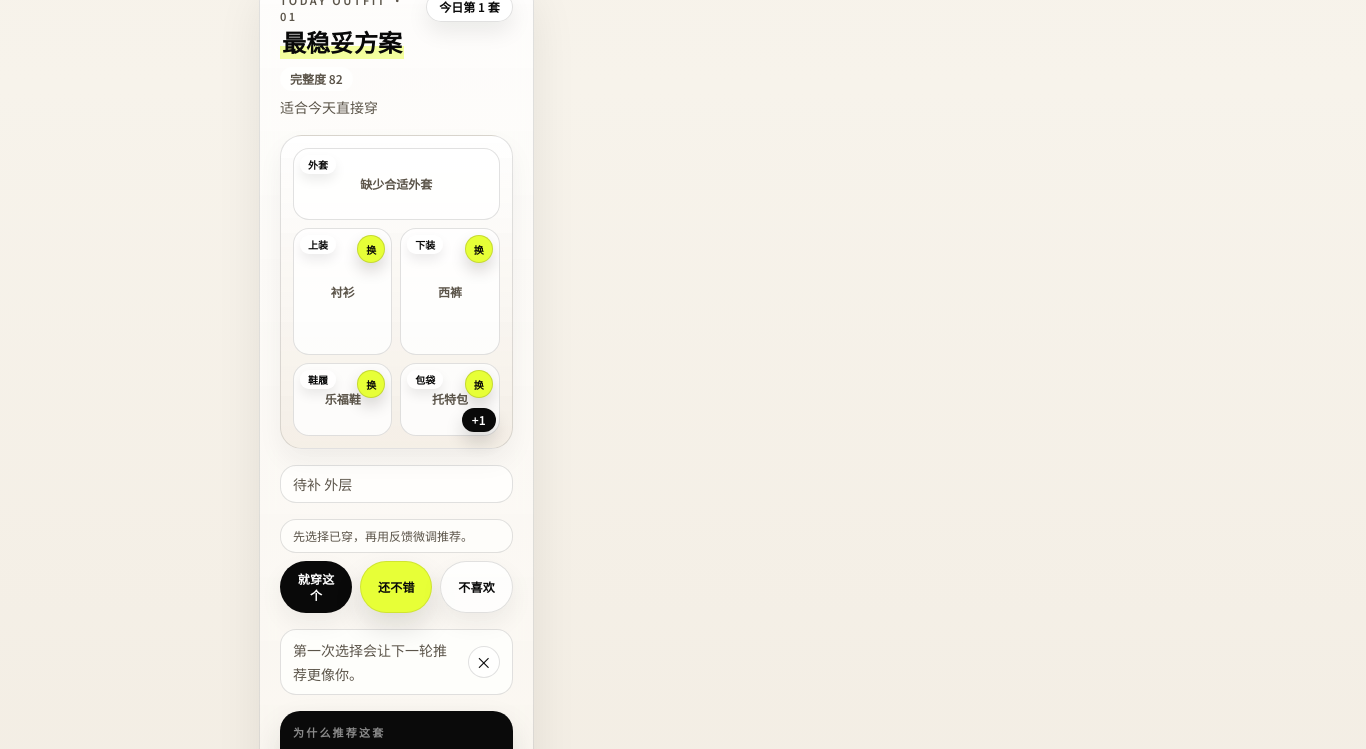
it: TodayPage › confirms before replacing a slot from the outfit image
The image size is (1366, 749).
(page scrolled)
Click the button named "更换鞋履".
click(371, 384)  # box x1=357 y1=370 x2=385 y2=398
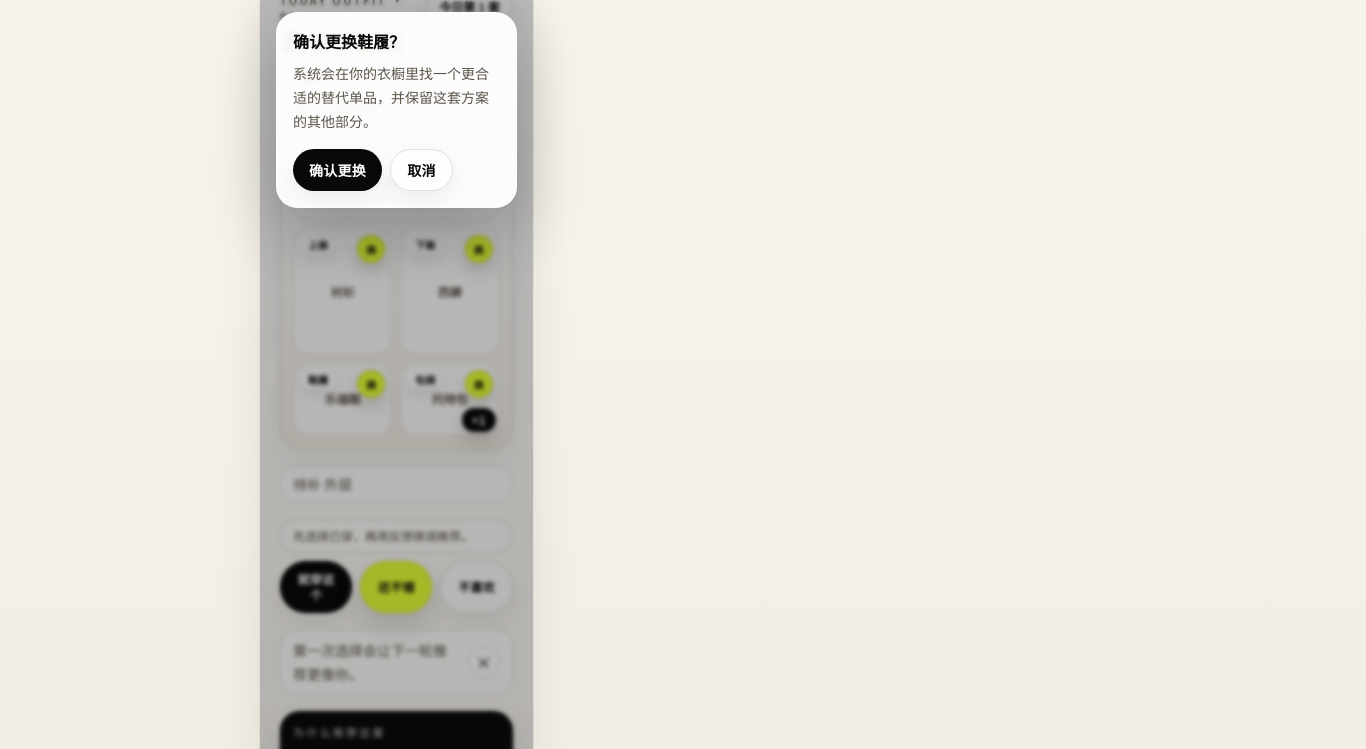
Expected: the dialog "确认更换鞋履" is shown, x1=276 y1=12 x2=517 y2=208
Click the button "取消".
click(421, 170)  # box x1=390 y1=149 x2=453 y2=191
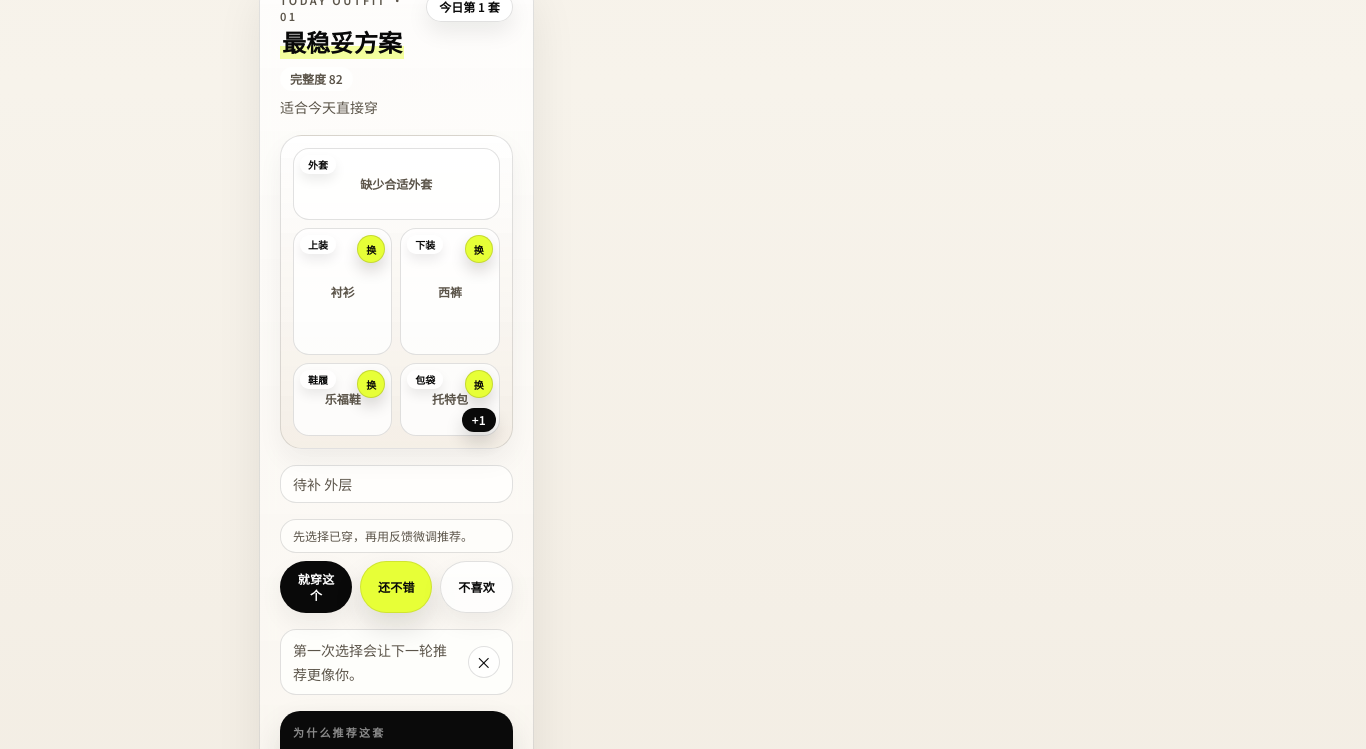
Click the button named "更换鞋履".
click(371, 384)  # box x1=357 y1=370 x2=385 y2=398
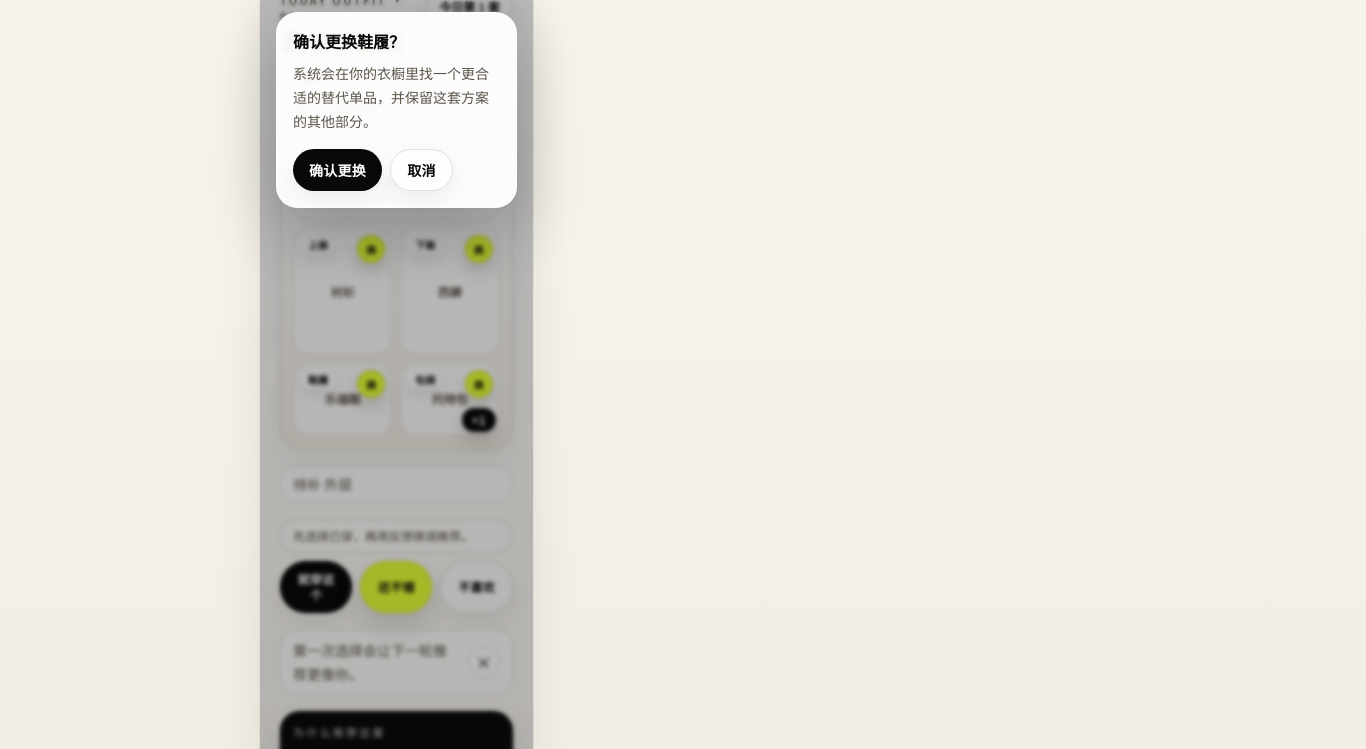
Click the button "确认更换".
click(338, 170)  # box x1=293 y1=149 x2=382 y2=191
(page scrolled)
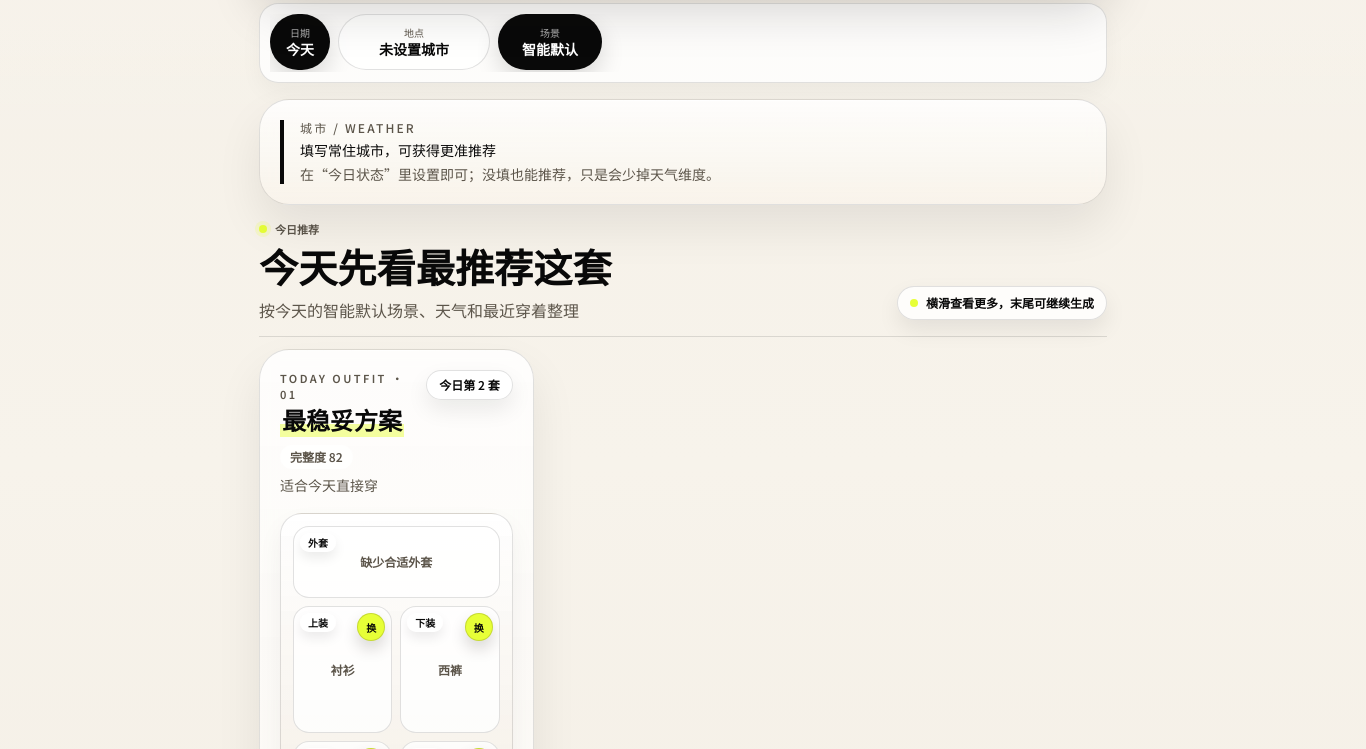
Expected: the element named "今天第 2 套推荐" is shown, x1=426 y1=370 x2=513 y2=400
